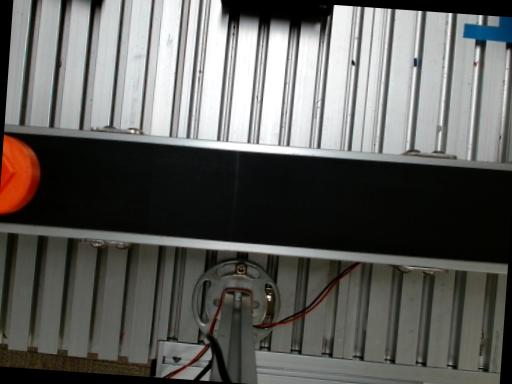Orange_Waper: (0, 135, 40, 214)
